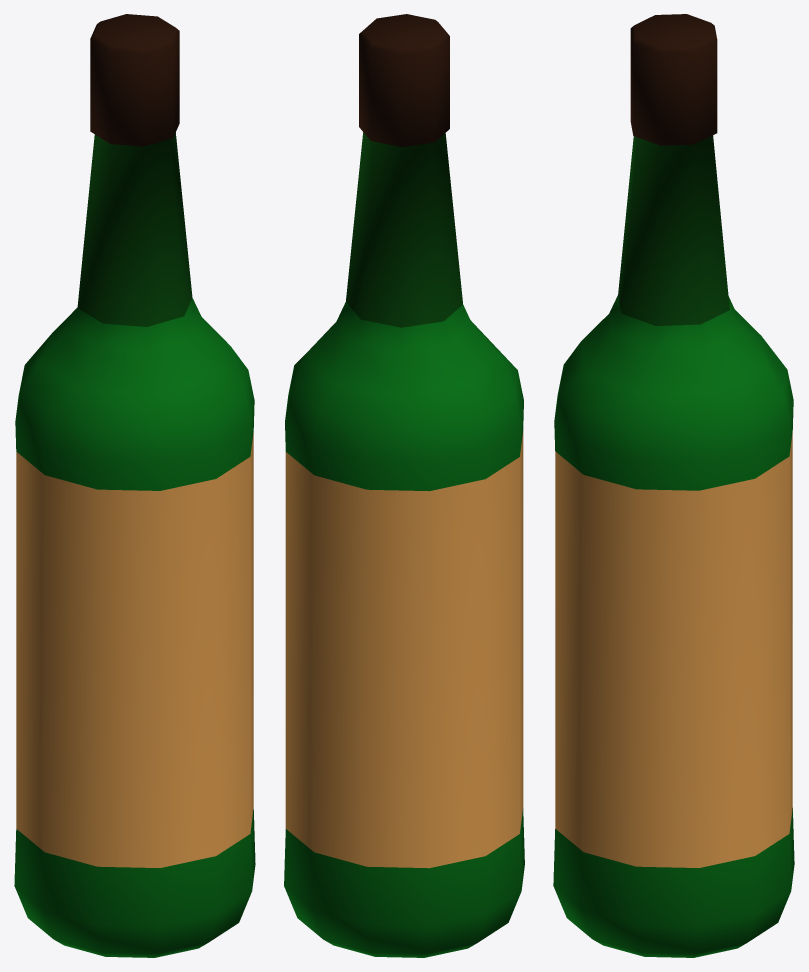
File: Classic.fbx
The picture shows the model from 3 angles, left to right: view 1: azimuth 30°, elevation 25°; view 2: azimuth 150°, elevation 25°; view 3: azimuth 270°, elevation 25°; orthographic projection.
Parts seen in each view (by area): view 1: Classic; view 2: Classic; view 3: Classic.
Part boxes in pixels (x1,y1,x2,y2): Classic: (14,14,255,957); Classic: (284,14,524,957); Classic: (553,14,794,957).
Size of the model in its own units: 7.23 by 29.36 by 7.23.
